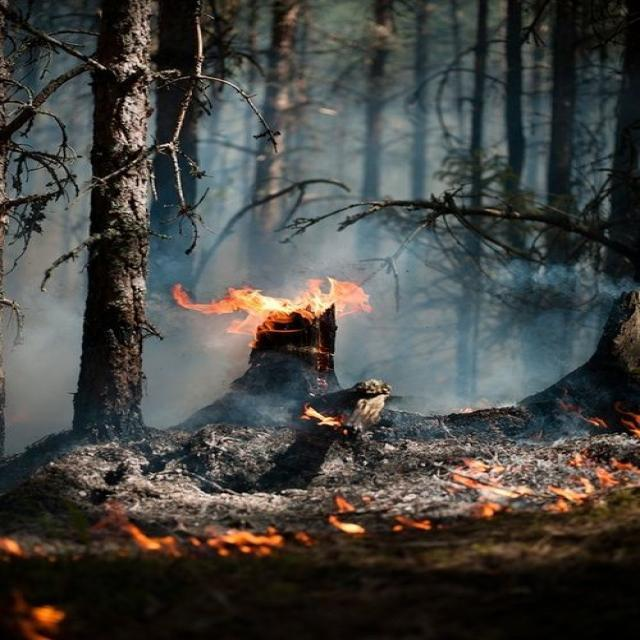Fire: (167, 276, 373, 336), (101, 502, 288, 564), (4, 589, 74, 640), (321, 482, 372, 544), (284, 404, 349, 428), (390, 509, 436, 536), (0, 531, 25, 559)
Smoke: (494, 254, 640, 304), (210, 380, 316, 432)
